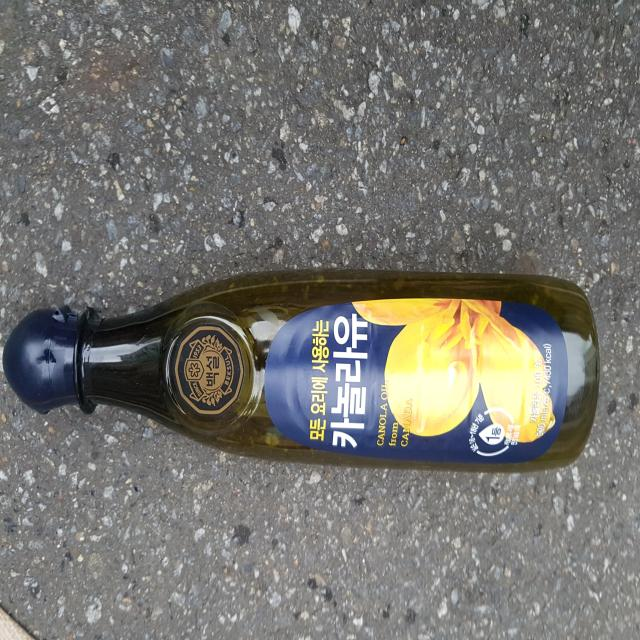bottle: (0, 256, 605, 469)
